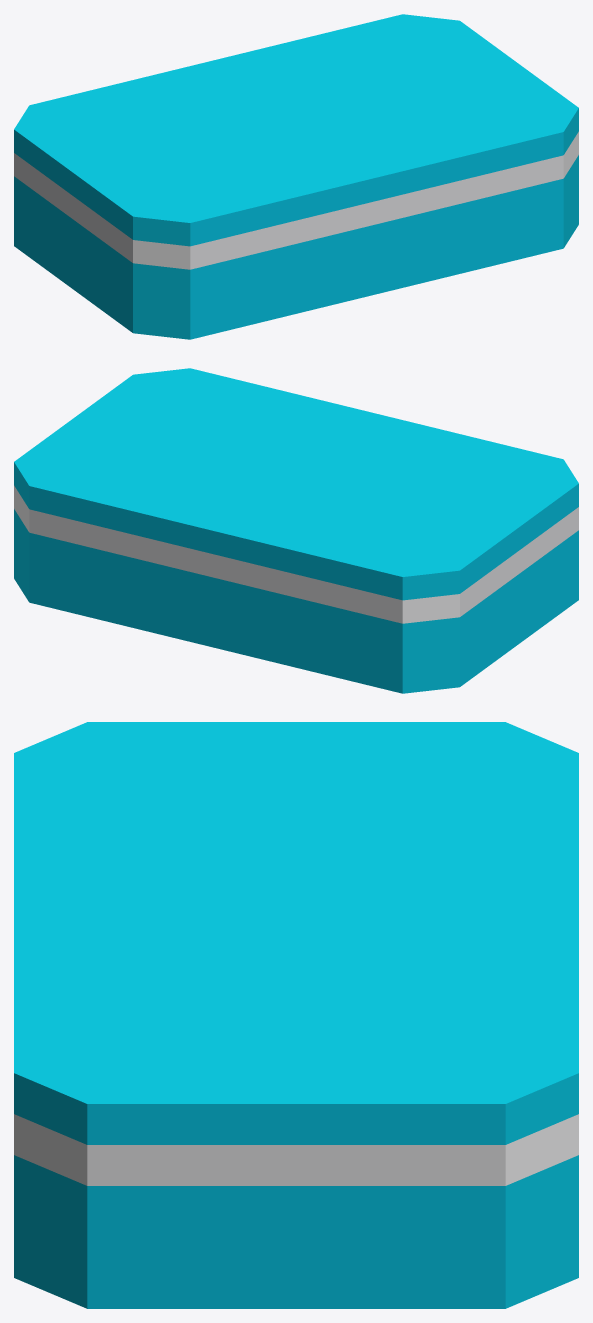
Rendered from NF_Belt_Taker.fbx.
The picture shows the model from 3 angles, top to bottom: view 1: azimuth 30°, elevation 25°; view 2: azimuth 150°, elevation 25°; view 3: azimuth 270°, elevation 25°; orthographic projection. The views are drawn at different scales.
Visible parts, largest first — view 1: NF_Belt_Taker; view 2: NF_Belt_Taker; view 3: NF_Belt_Taker.
Boxes of the visible parts, x1,y1,x2,y2 form: NF_Belt_Taker: (14, 14, 578, 339); NF_Belt_Taker: (14, 368, 578, 693); NF_Belt_Taker: (14, 722, 578, 1308).
Size of the model in its own units: 2 by 0.5 by 1.25.
Materials: 1 (1 with a texture image).
